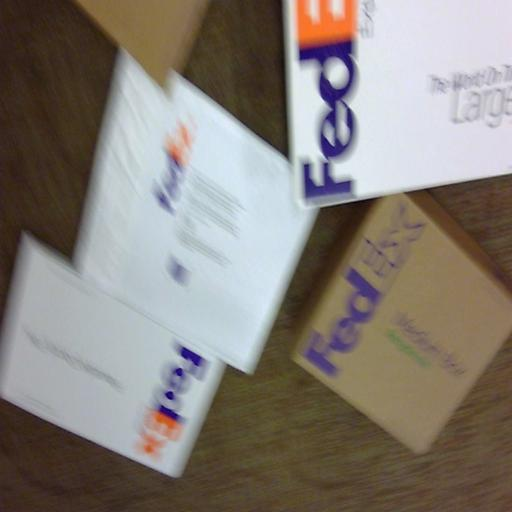Amazon: (298, 203, 512, 441), (9, 255, 213, 484), (279, 0, 512, 196)
